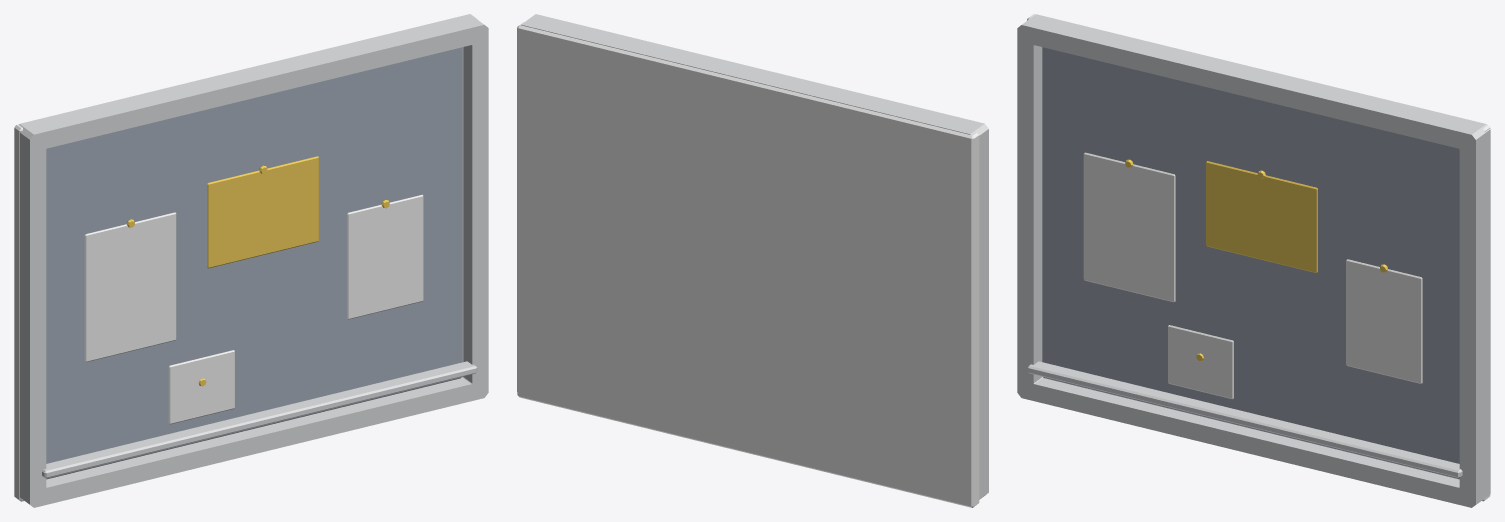
Rendered from laundrette-and-cleaning-notice-board-2b72688c__25548.glb.
The picture shows the model from 3 angles, left to right: view 1: azimuth 30°, elevation 25°; view 2: azimuth 150°, elevation 25°; view 3: azimuth 330°, elevation 25°; orthographic projection.
Visible parts, largest first — view 1: notice-board; view 2: notice-board; view 3: notice-board.
Part boxes in pixels (left/top/right/bottom): notice-board: left=14, top=14, right=488, bottom=507; notice-board: left=517, top=14, right=988, bottom=507; notice-board: left=1017, top=14, right=1490, bottom=507.
Size of the model in its own units: 0.9012 by 0.7012 by 0.065.
